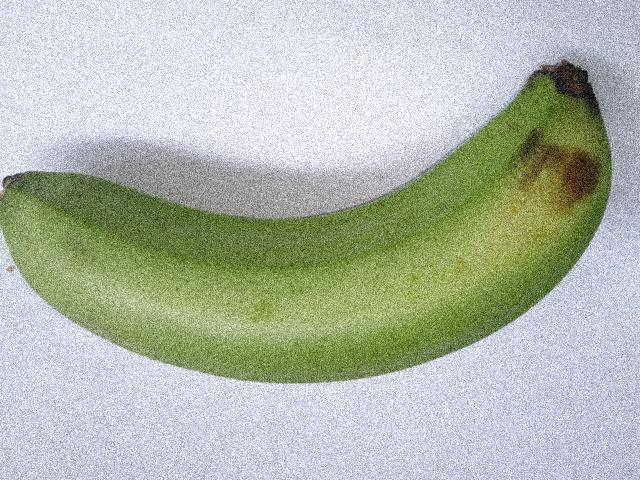freshunripe: (0, 41, 624, 402)
